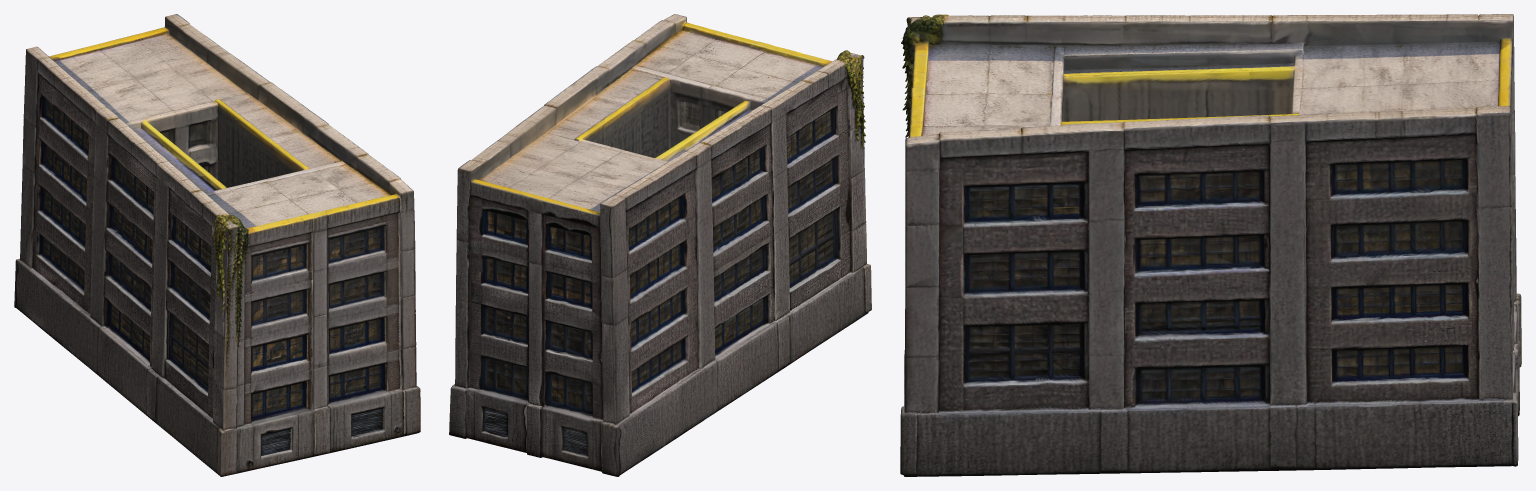
The model's file is roof-04.glb.
3 views of the same model, side by side, from view 1: azimuth 30°, elevation 25°; view 2: azimuth 150°, elevation 25°; view 3: azimuth 270°, elevation 25° (orthographic). The views are drawn at different scales.
Parts seen in each view (by area): view 1: tripo_node_e0174d37-d903-447a-88f6-fa0b8f245992; view 2: tripo_node_e0174d37-d903-447a-88f6-fa0b8f245992; view 3: tripo_node_e0174d37-d903-447a-88f6-fa0b8f245992.
Part boxes in pixels (bbox=[...]): tripo_node_e0174d37-d903-447a-88f6-fa0b8f245992: bbox=[14, 14, 420, 476]; tripo_node_e0174d37-d903-447a-88f6-fa0b8f245992: bbox=[449, 14, 871, 476]; tripo_node_e0174d37-d903-447a-88f6-fa0b8f245992: bbox=[900, 14, 1521, 476].
Bounding box in the file's own units: 0.4852 × 0.6125 × 0.9771.
Materials: 1 (1 with a texture image).
